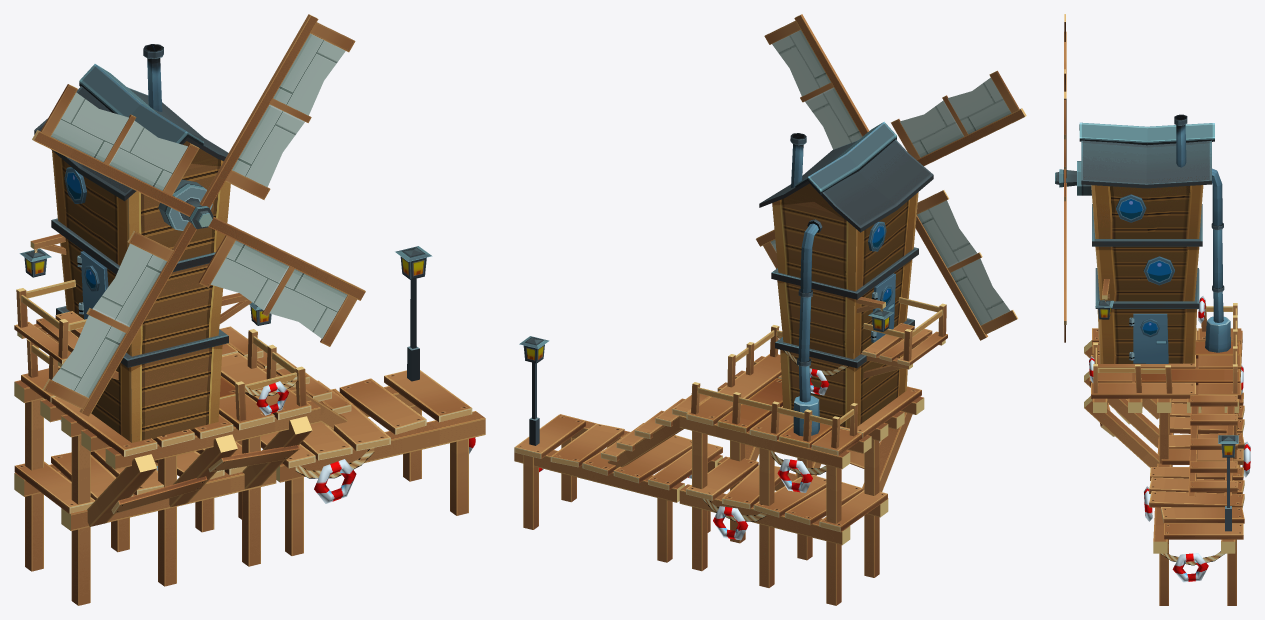
File: windhouse.fbx
3 renders of one model, left to right at view 1: azimuth 30°, elevation 25°; view 2: azimuth 150°, elevation 25°; view 3: azimuth 270°, elevation 25°, orthographic. The views are drawn at different scales.
Parts seen in each view (by area): view 1: pasted__windmill_house1; view 2: pasted__windmill_house1; view 3: pasted__windmill_house1.
Part boxes in pixels (x1,y1,x2,y2): pasted__windmill_house1: (14,14,485,605); pasted__windmill_house1: (514,14,1026,605); pasted__windmill_house1: (1055,14,1250,605).
Bounding box in the file's own units: 2242 × 2469 × 1006.
